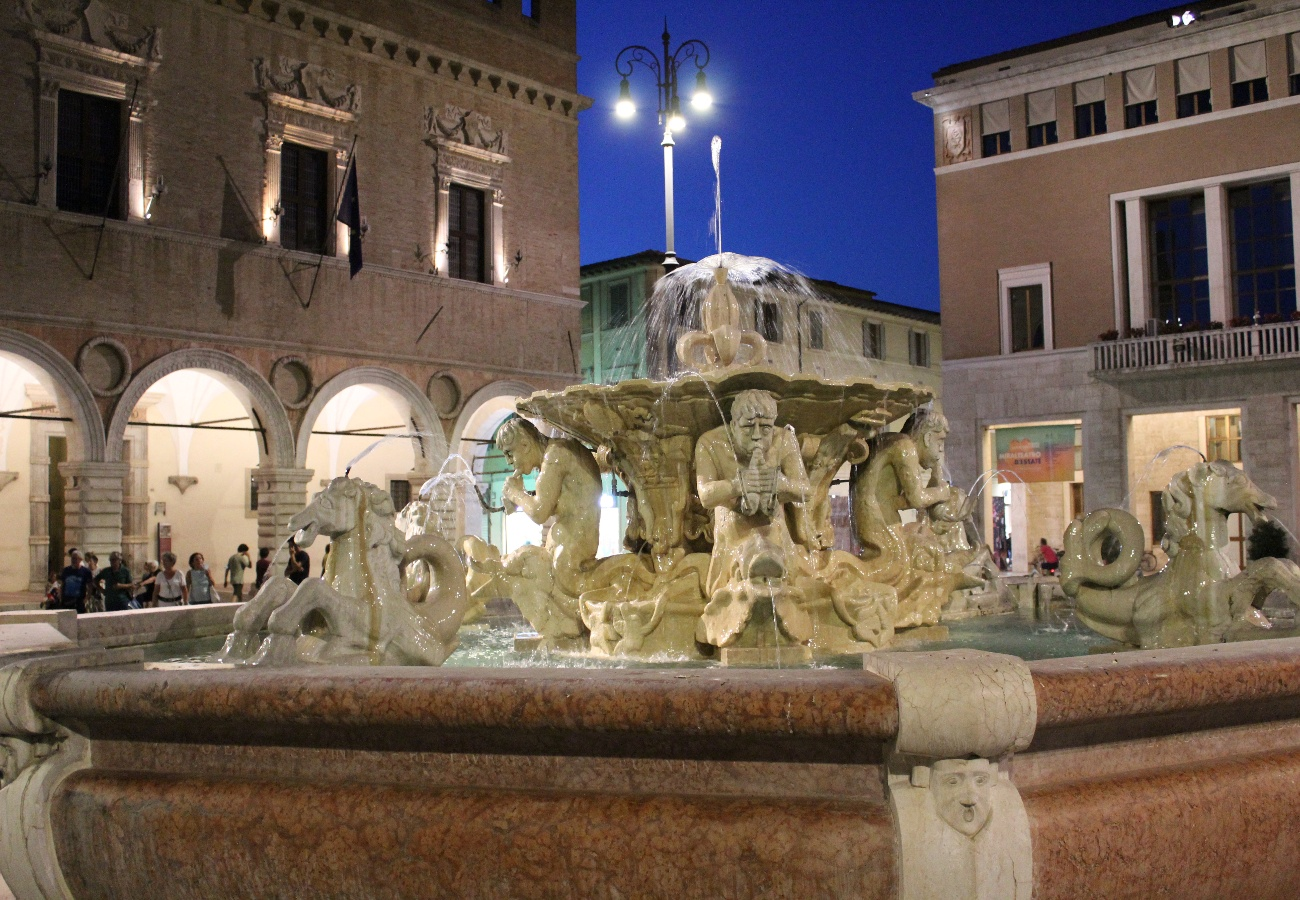Fontana Piazza del Popolo: (490, 365, 991, 665)
